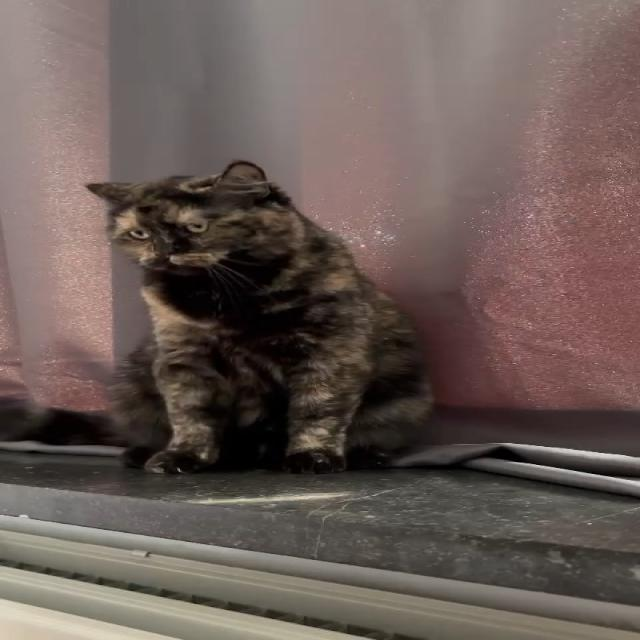authorized: (82, 159, 434, 475)
